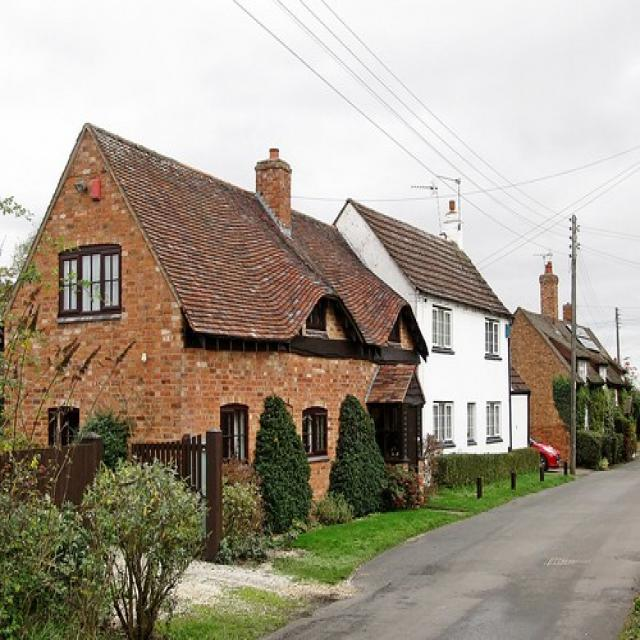Normal_building: (3, 117, 431, 559), (331, 190, 515, 470), (507, 304, 633, 474)
